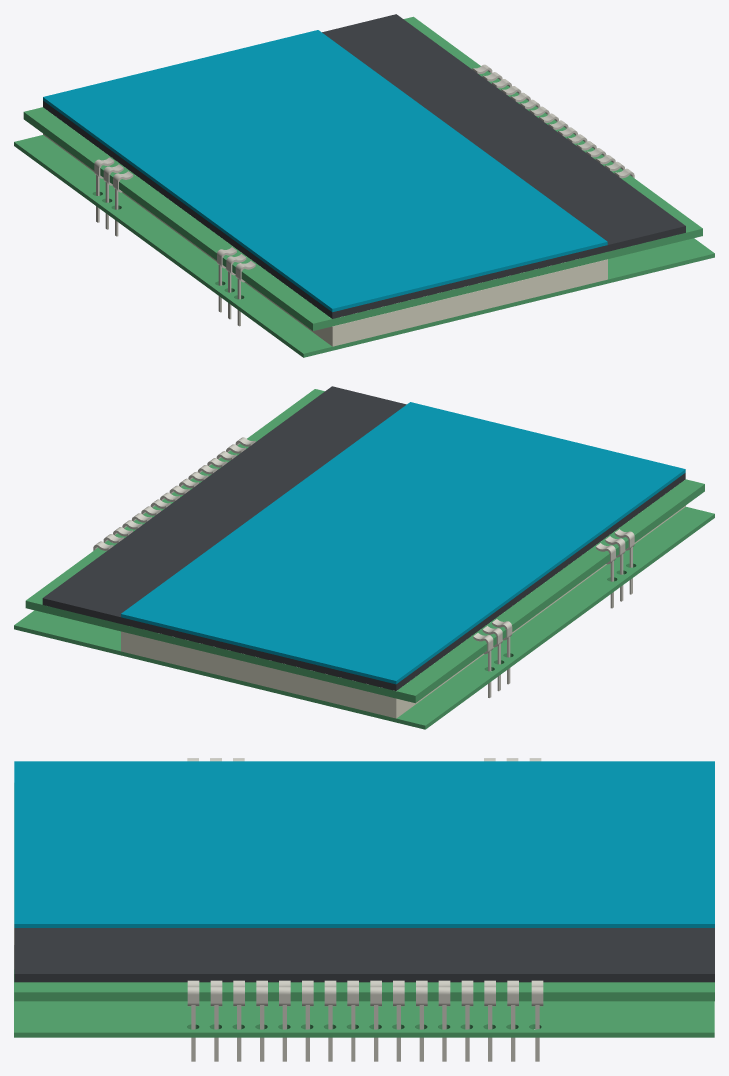
File: kc-ea_dogxl160-7_backlight.glb
The picture shows the model from 3 angles, top to bottom: view 1: azimuth 30°, elevation 25°; view 2: azimuth 150°, elevation 25°; view 3: azimuth 270°, elevation 25°; orthographic projection. The views are drawn at different scales.
Parts seen in each view (by area): view 1: 0_0.3333333333333333_0.5_0, 0.08333333333333333_0.08333333333333333_0.08333333333333333_, 0.08333333333333333_0.4166666666666667_0.16666666666666666_0, 0.75_0.75_0.6666666666666666_0, 0.6666666666666666_0.6666666666666666_0.5833333333333334_0.8; view 2: 0_0.3333333333333333_0.5_0, 0.08333333333333333_0.08333333333333333_0.08333333333333333_, 0.08333333333333333_0.4166666666666667_0.16666666666666666_0, 0.75_0.75_0.6666666666666666_0, 0.6666666666666666_0.6666666666666666_0.5833333333333334_0.8; view 3: 0_0.3333333333333333_0.5_0, 0.08333333333333333_0.08333333333333333_0.08333333333333333_, 0.08333333333333333_0.4166666666666667_0.16666666666666666_0, 0.6666666666666666_0.6666666666666666_0.5833333333333334_0.8.
Boxes of the visible parts, x1,y1,x2,y2 form: 0_0.3333333333333333_0.5_0: [43, 30, 607, 312]; 0.08333333333333333_0.08333333333333333_0.08333333333333333_: [43, 14, 685, 318]; 0.08333333333333333_0.4166666666666667_0.16666666666666666_0: [14, 16, 714, 357]; 0.75_0.75_0.6666666666666666_0: [43, 133, 607, 346]; 0.6666666666666666_0.6666666666666666_0.5833333333333334_0.8: [94, 64, 634, 326]; 0_0.3333333333333333_0.5_0: [121, 402, 685, 684]; 0.08333333333333333_0.08333333333333333_0.08333333333333333_: [42, 386, 685, 690]; 0.08333333333333333_0.4166666666666667_0.16666666666666666_0: [14, 389, 714, 729]; 0.75_0.75_0.6666666666666666_0: [121, 505, 685, 718]; 0.6666666666666666_0.6666666666666666_0.5833333333333334_0.8: [93, 437, 634, 697]; 0_0.3333333333333333_0.5_0: [14, 761, 714, 927]; 0.08333333333333333_0.08333333333333333_0.08333333333333333_: [14, 928, 714, 982]; 0.08333333333333333_0.4166666666666667_0.16666666666666666_0: [14, 969, 714, 1037]; 0.6666666666666666_0.6666666666666666_0.5833333333333334_0.8: [187, 758, 543, 1061].
Size of the model in its own units: 6.4 by 0.9803 by 7.8.
